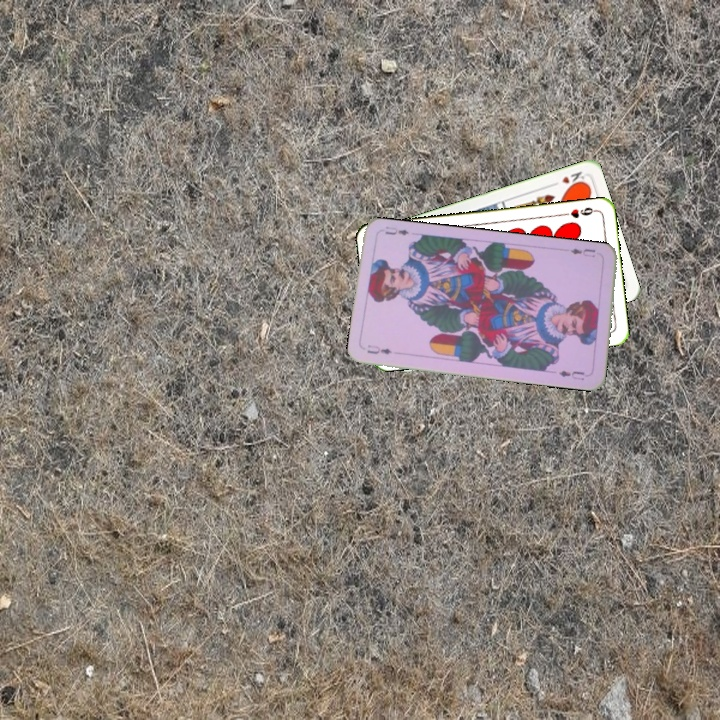EU: (567, 244, 598, 260), (363, 341, 394, 357)
H9: (558, 203, 599, 221)
HK: (547, 167, 587, 190)
